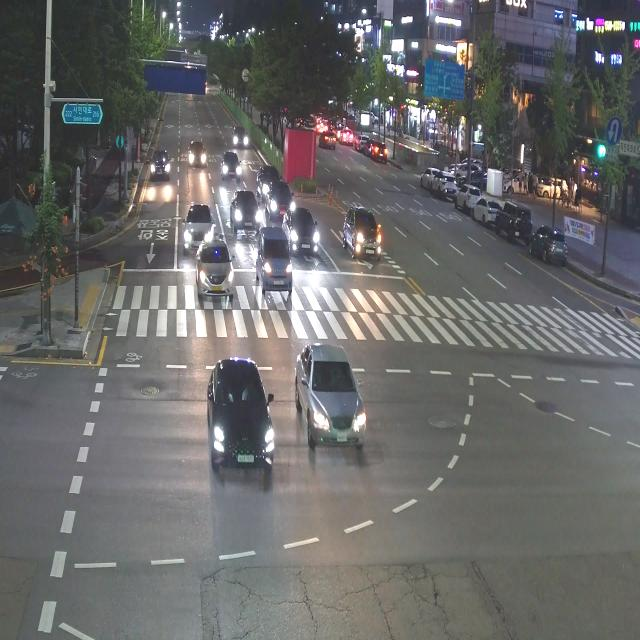Car: (285, 334, 371, 458), (204, 349, 278, 485), (193, 224, 244, 314), (280, 190, 336, 268), (251, 210, 290, 306), (339, 196, 388, 262), (519, 220, 568, 271), (228, 180, 264, 243), (183, 193, 216, 258), (494, 196, 531, 246), (214, 144, 250, 189), (151, 138, 179, 193), (254, 158, 284, 204), (266, 180, 296, 221), (501, 169, 537, 200), (186, 134, 212, 173), (535, 170, 570, 198), (471, 194, 499, 228), (432, 167, 458, 200), (226, 123, 254, 151), (455, 182, 480, 212), (463, 168, 495, 190), (452, 162, 483, 182), (371, 137, 390, 164), (419, 165, 438, 192), (318, 130, 336, 153), (340, 126, 354, 148), (363, 135, 374, 156), (354, 132, 366, 150)
